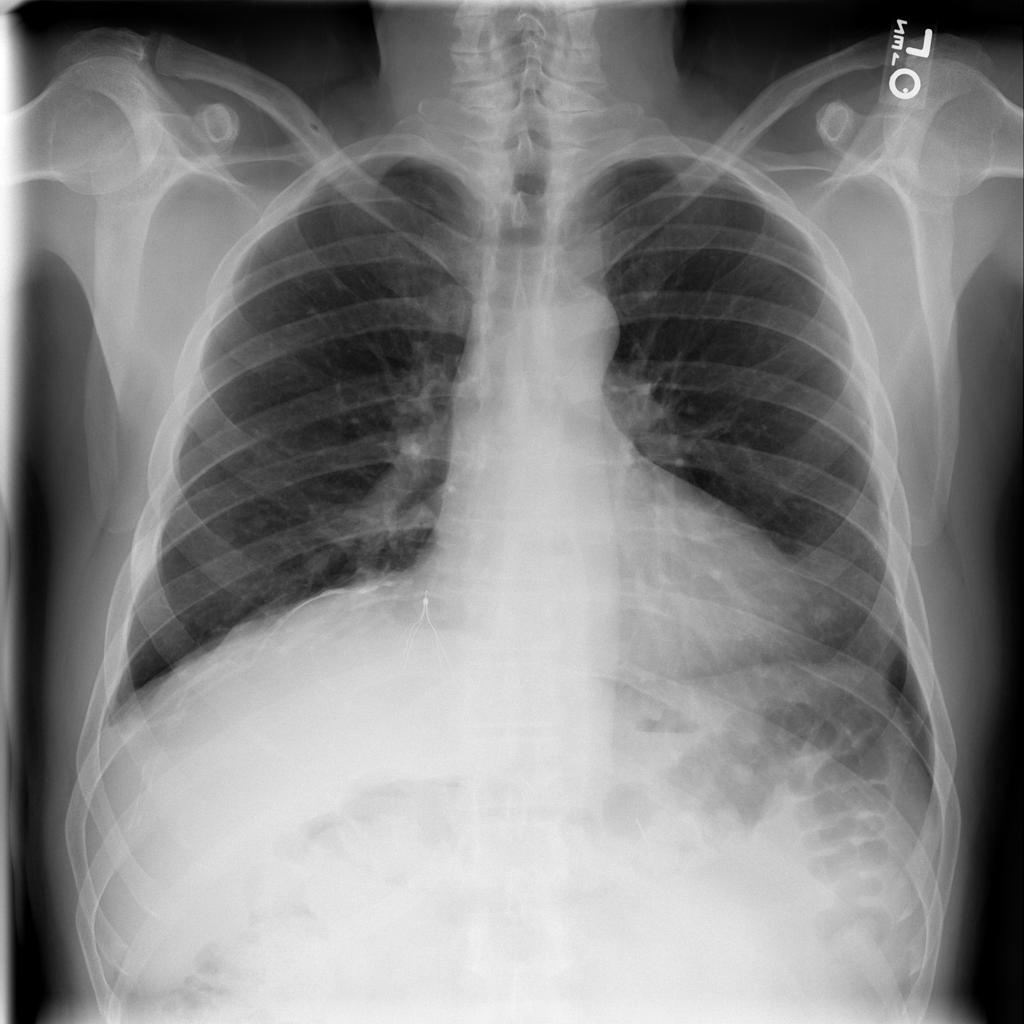nodule: (229, 498, 287, 542)
